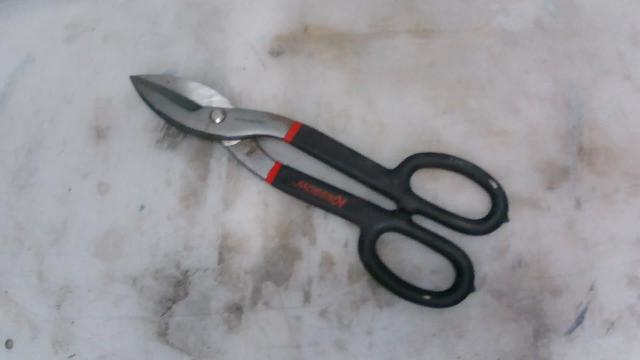gunting_plat: (119, 43, 534, 317)
